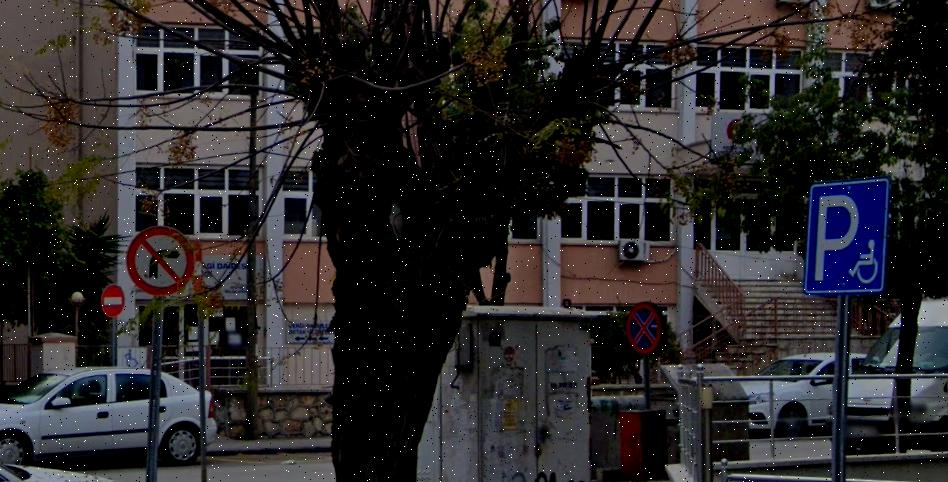disabledpark: (807, 174, 890, 286)
rightturnsareforbidden: (129, 226, 193, 291)
